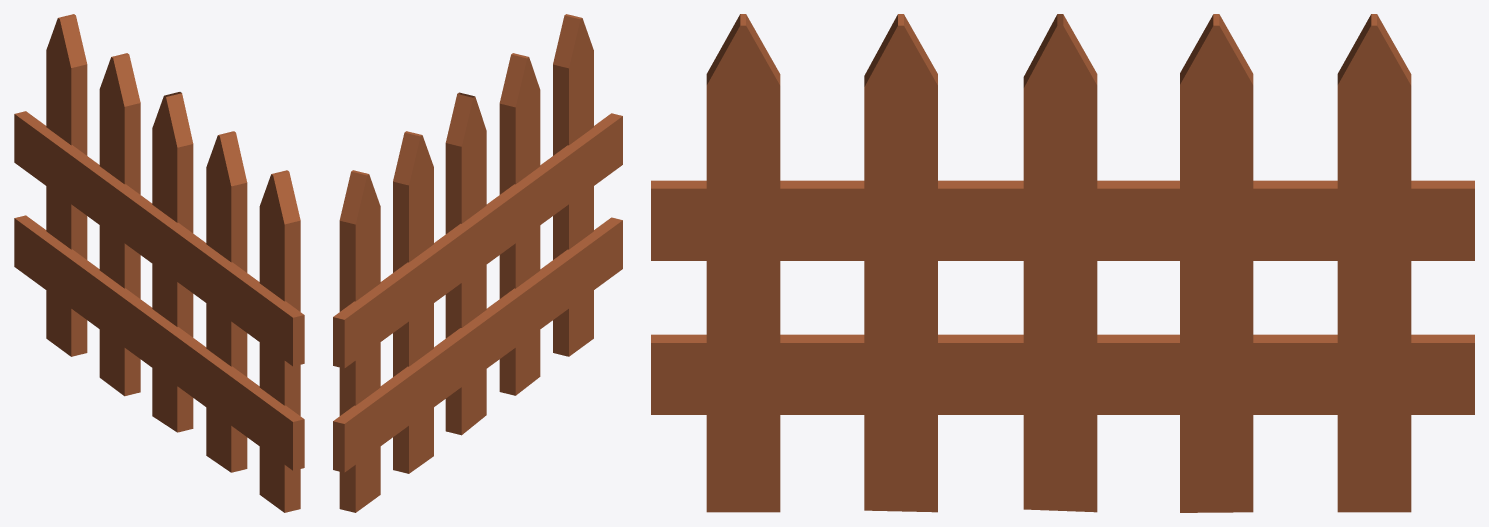
Rendered from Fence_Normal.fbx.
3 views of the same model, side by side, from view 1: azimuth 30°, elevation 25°; view 2: azimuth 150°, elevation 25°; view 3: azimuth 270°, elevation 25° (orthographic). The views are drawn at different scales.
Visible parts, largest first — view 1: Cube, Cube.001, Cube.002, Cube.004, Cube.003; view 2: Cube, Cube.002, Cube.001, Cube.004, Cube.003; view 3: Cube, Cube.001, Cube.002, Cube.004, Cube.003.
Boxes of the visible parts, bbox=[...] form: Cube: bbox=[46, 14, 300, 512]; Cube.001: bbox=[14, 215, 304, 470]; Cube.002: bbox=[14, 111, 304, 366]; Cube.004: bbox=[152, 92, 193, 432]; Cube.003: bbox=[206, 132, 247, 472]; Cube: bbox=[339, 14, 593, 512]; Cube.002: bbox=[333, 113, 622, 368]; Cube.001: bbox=[333, 217, 622, 472]; Cube.004: bbox=[445, 92, 486, 435]; Cube.003: bbox=[499, 54, 540, 395]; Cube: bbox=[706, 14, 1411, 512]; Cube.001: bbox=[651, 334, 1474, 414]; Cube.002: bbox=[651, 180, 1474, 260]; Cube.004: bbox=[1023, 14, 1097, 512]; Cube.003: bbox=[864, 14, 937, 512].
Bounding box in the file's own units: 19.15 × 228 × 349.
